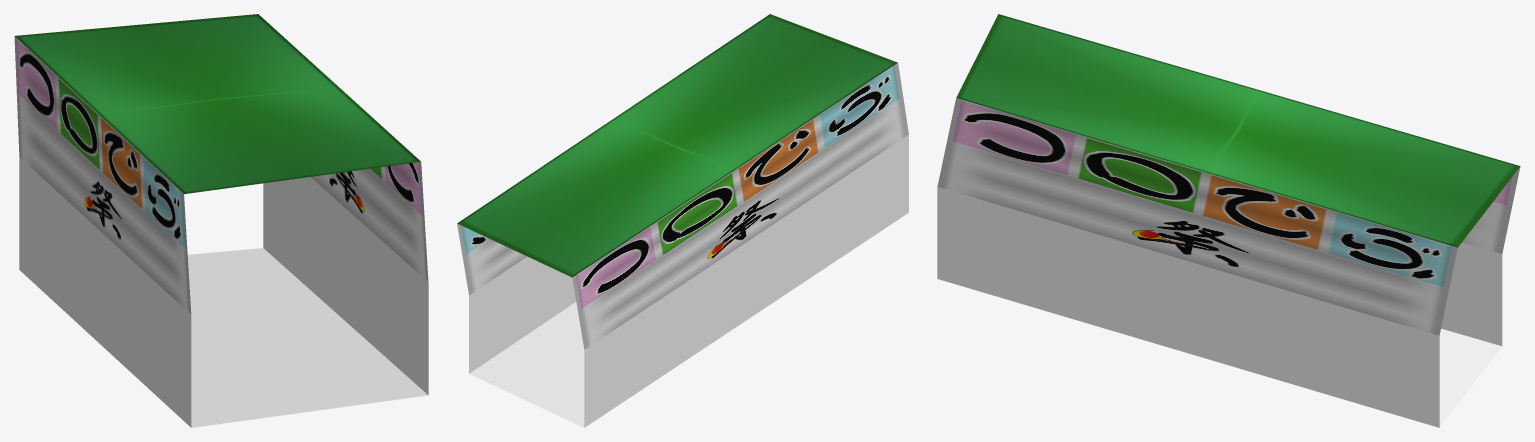
The model's file is CourseWinter_Wall_L_2_3.fbx.
3 views of the same model, side by side, from view 1: azimuth 30°, elevation 25°; view 2: azimuth 150°, elevation 25°; view 3: azimuth 270°, elevation 25° (orthographic). The views are drawn at different scales.
Visible parts, largest first — view 1: polySurface458; view 2: polySurface458; view 3: polySurface458.
Boxes of the visible parts, x1,y1,x2,y2 form: polySurface458: (14, 14, 428, 427); polySurface458: (457, 14, 908, 427); polySurface458: (937, 14, 1520, 427).
Bounding box in the file's own units: 3.33 × 2.98 × 5.73.
1 material, 1 textured.
